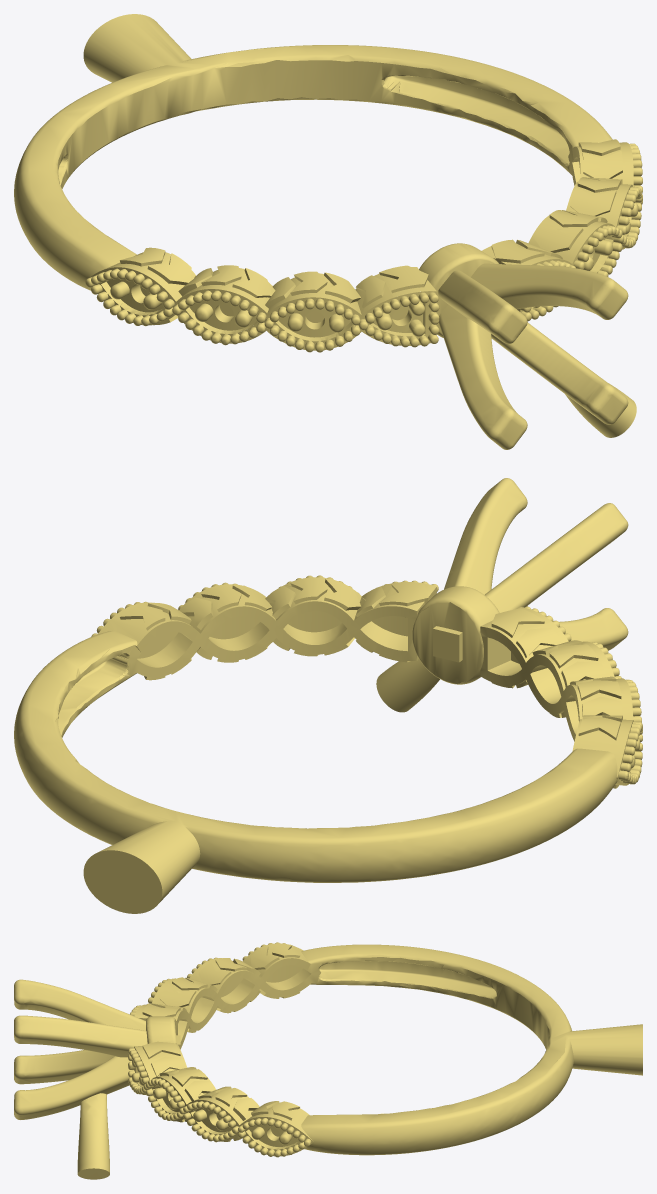
3 views of the same model, one above another, from view 1: azimuth 30°, elevation 25°; view 2: azimuth 150°, elevation 25°; view 3: azimuth 270°, elevation 25° (orthographic). The views are drawn at different scales.
Visible parts, largest first — view 1: Renderer Node; view 2: Renderer Node; view 3: Renderer Node.
Boxes of the visible parts, x1,y1,x2,y2 form: Renderer Node: (14,14,642,449); Renderer Node: (14,478,642,913); Renderer Node: (14,942,642,1179).
Size of the model in its own units: 21.22 by 7.7 by 29.81.
